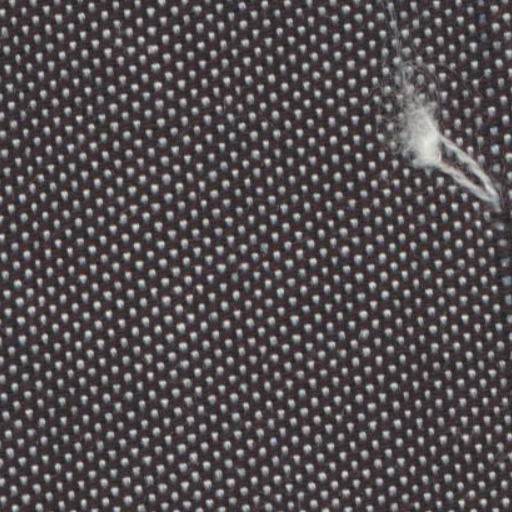DuanSha: (368, 58, 500, 210)
